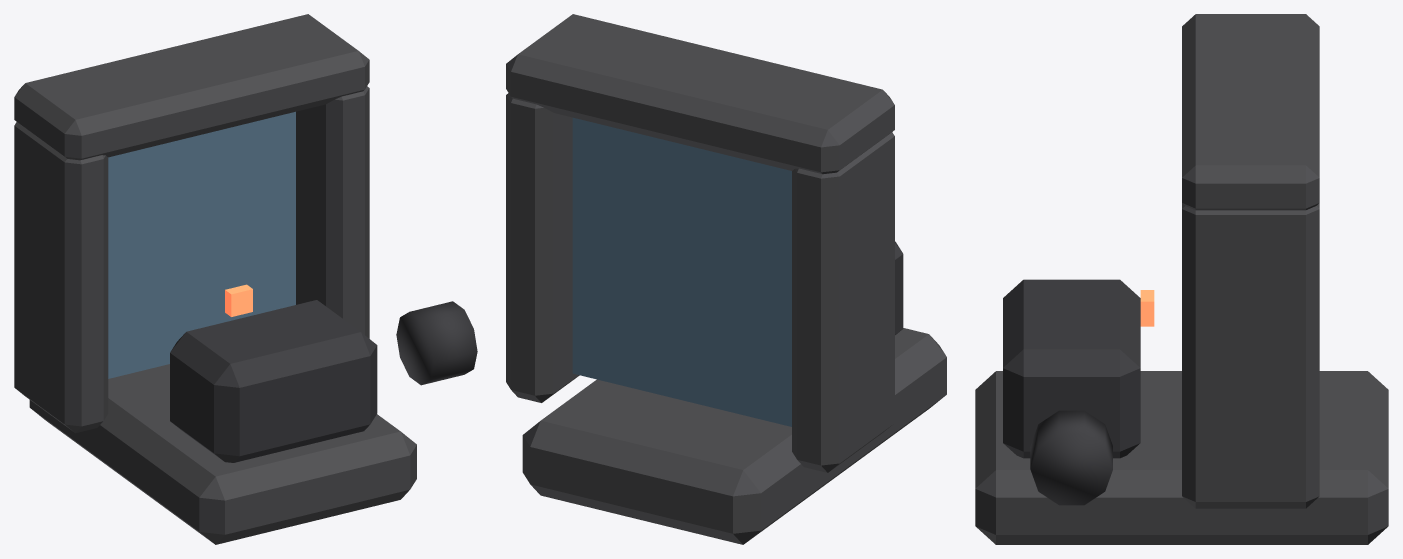
Rendered from part_zamerovac.glb.
3 views of the same model, side by side, from view 1: azimuth 30°, elevation 25°; view 2: azimuth 150°, elevation 25°; view 3: azimuth 270°, elevation 25° (orthographic). The views are drawn at different scales.
Visible parts, largest first — view 1: Zamerovac; view 2: Zamerovac; view 3: Zamerovac.
Part boxes in pixels (x1,y1,x2,y2): Zamerovac: [14, 14, 477, 544]; Zamerovac: [506, 14, 946, 544]; Zamerovac: [975, 14, 1388, 544].
Bounding box in the file's own units: 0.062 × 0.065 × 0.06.
